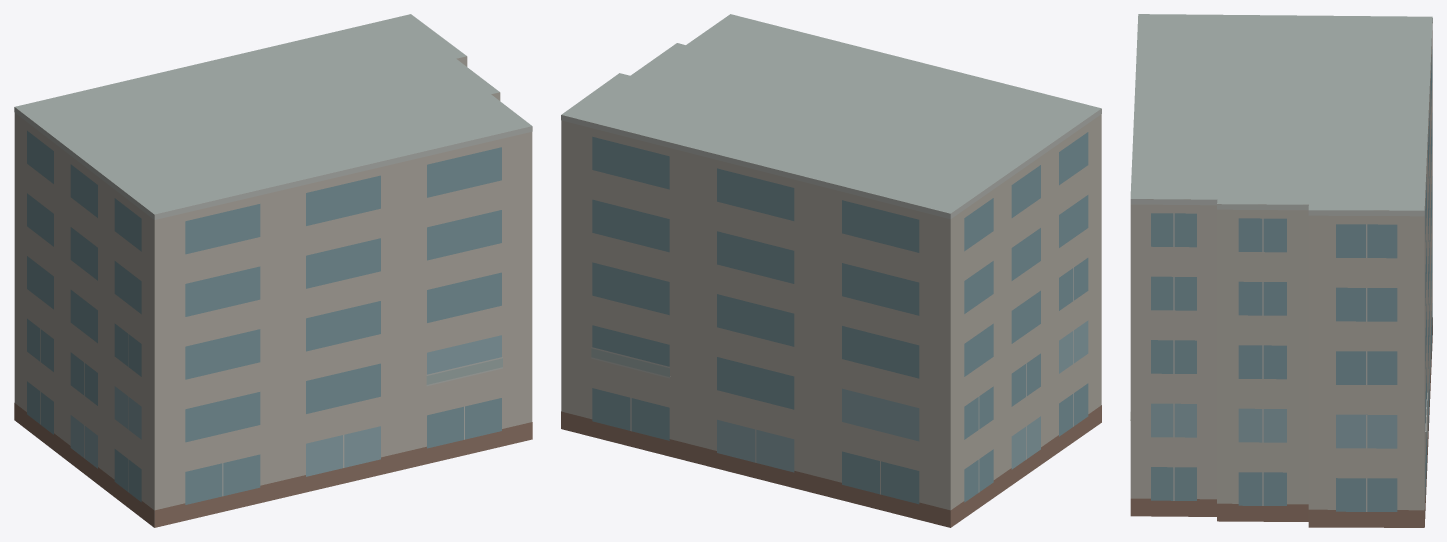
Rendered from survey-upis-32781422.glb.
3 views of the same model, side by side, from view 1: azimuth 30°, elevation 25°; view 2: azimuth 150°, elevation 25°; view 3: azimuth 270°, elevation 25° (orthographic).
Visible parts, largest first — view 1: survey-upis-32781422.tmp; view 2: survey-upis-32781422.tmp; view 3: survey-upis-32781422.tmp.
Boxes of the visible parts, x1,y1,x2,y2 form: survey-upis-32781422.tmp: (14,14,532,527); survey-upis-32781422.tmp: (561,14,1101,527); survey-upis-32781422.tmp: (1130,14,1432,527).
Size of the model in its own units: 18.35 by 13.8 by 11.93.
